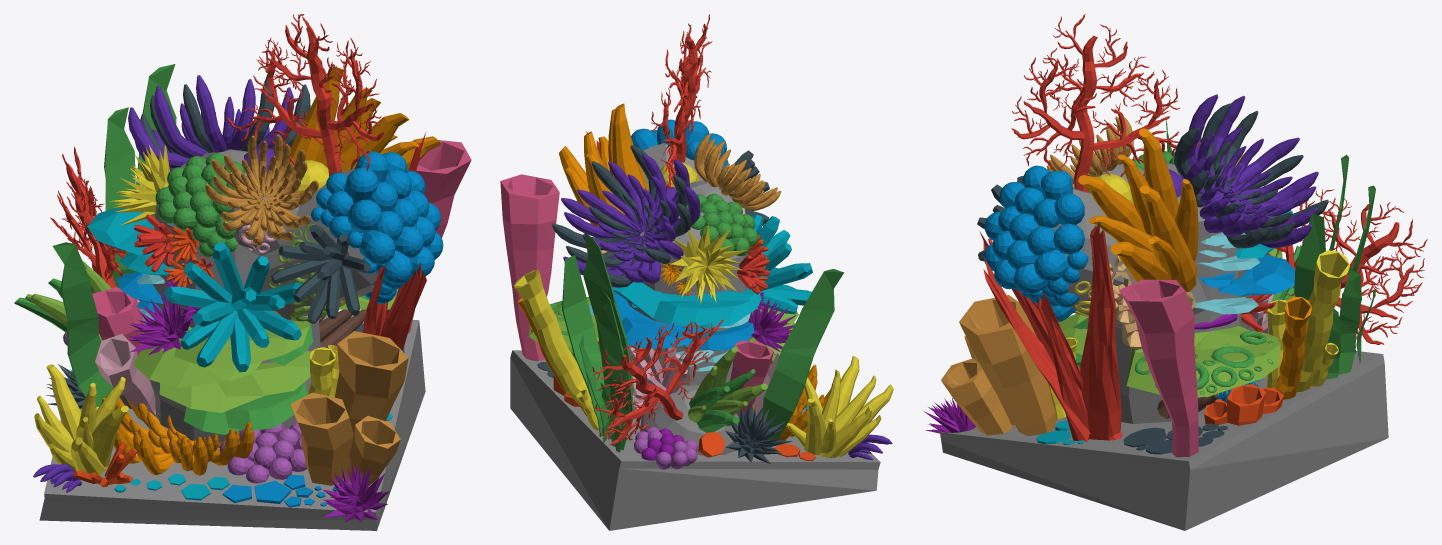
The model's file is modelDraco.gltf.
3 views of the same model, side by side, from view 1: azimuth 30°, elevation 25°; view 2: azimuth 150°, elevation 25°; view 3: azimuth 270°, elevation 25° (orthographic). The views are drawn at different scales.
Visible parts, largest first — view 1: node_MeshObject482679040-PolyPaper8, node_MeshObject-2053168320-PolyPaper13, node_MeshObject1494834176-PolyPaper1, node_MeshObject1183427968-PolyPaper8, node_MeshObject166918720-PolyPaper6, node_MeshObject1695897344-PolyPaper17, node_MeshObject-580046080-PolyPaper8, node_MeshObject-1393565376-PolyPaper3, node_MeshObject1190547904-PolyPaper5, node_MeshObject-1907961536-PolyPaper5, node_MeshObject-494684224-PolyPaper1, node_MeshObject-1243972928-PolyPaper0 (+24 smaller); view 2: node_MeshObject482679040-PolyPaper8, node_MeshObject685783040-PolyPaper0, node_MeshObject1183427968-PolyPaper8, node_MeshObject-845174656-PolyPaper18, node_MeshObject109165760-PolyPaper10, node_MeshObject-231911104-PolyPaper13, node_MeshObject1494834176-PolyPaper1, node_MeshObject-2110921280-PolyPaper8, node_MeshObject-494684224-PolyPaper1, node_MeshObject1481585280-PolyPaper13, node_MeshObject-1393565376-PolyPaper3, node_MeshObject1695897344-PolyPaper17 (+21 smaller); view 3: node_MeshObject482679040-PolyPaper8, node_MeshObject685783040-PolyPaper0, node_MeshObject-494684224-PolyPaper1, node_MeshObject1183427968-PolyPaper8, node_MeshObject-1416423040-PolyPaper18, node_MeshObject166918720-PolyPaper6, node_MeshObject-1907961536-PolyPaper5, node_MeshObject1695897344-PolyPaper17, node_MeshObject-2053168320-PolyPaper13, node_MeshObject-580046080-PolyPaper8, node_MeshObject-231911104-PolyPaper13, node_MeshObject-1393565376-PolyPaper3 (+21 smaller).
Boxes of the visible parts, box(x1,y1,x2,y2) form: node_MeshObject482679040-PolyPaper8: box(39, 147, 425, 530); node_MeshObject-2053168320-PolyPaper13: box(56, 168, 426, 503); node_MeshObject1494834176-PolyPaper1: box(87, 170, 425, 484); node_MeshObject1183427968-PolyPaper8: box(49, 98, 429, 471); node_MeshObject166918720-PolyPaper6: box(65, 62, 408, 505); node_MeshObject1695897344-PolyPaper17: box(104, 14, 346, 442); node_MeshObject-580046080-PolyPaper8: box(76, 16, 409, 449); node_MeshObject-1393565376-PolyPaper3: box(50, 45, 400, 485); node_MeshObject1190547904-PolyPaper5: box(71, 129, 441, 522); node_MeshObject-1907961536-PolyPaper5: box(70, 23, 434, 430); node_MeshObject-494684224-PolyPaper1: box(48, 50, 418, 511); node_MeshObject-1243972928-PolyPaper0: box(77, 83, 371, 471); node_MeshObject482679040-PolyPaper8: box(510, 194, 880, 530); node_MeshObject685783040-PolyPaper0: box(500, 174, 713, 441); node_MeshObject1183427968-PolyPaper8: box(579, 76, 881, 456); node_MeshObject-845174656-PolyPaper18: box(514, 141, 840, 460); node_MeshObject109165760-PolyPaper10: box(553, 22, 872, 457); node_MeshObject-231911104-PolyPaper13: box(559, 146, 892, 460); node_MeshObject1494834176-PolyPaper1: box(612, 275, 859, 416); node_MeshObject-2110921280-PolyPaper8: box(550, 105, 844, 439); node_MeshObject-494684224-PolyPaper1: box(517, 61, 762, 457); node_MeshObject1481585280-PolyPaper13: box(551, 161, 668, 275); node_MeshObject-1393565376-PolyPaper3: box(588, 31, 747, 420); node_MeshObject1695897344-PolyPaper17: box(591, 31, 778, 419); node_MeshObject482679040-PolyPaper8: box(940, 162, 1388, 530); node_MeshObject685783040-PolyPaper0: box(1119, 95, 1427, 457); node_MeshObject-494684224-PolyPaper1: box(1017, 60, 1380, 399); node_MeshObject1183427968-PolyPaper8: box(1027, 93, 1376, 440); node_MeshObject-1416423040-PolyPaper18: box(999, 182, 1420, 440); node_MeshObject166918720-PolyPaper6: box(959, 58, 1422, 436); node_MeshObject-1907961536-PolyPaper5: box(978, 16, 1335, 440); node_MeshObject1695897344-PolyPaper17: box(1034, 24, 1286, 423); node_MeshObject-2053168320-PolyPaper13: box(964, 187, 1380, 444); node_MeshObject-580046080-PolyPaper8: box(1014, 14, 1268, 454); node_MeshObject-231911104-PolyPaper13: box(1110, 103, 1295, 392); node_MeshObject-1393565376-PolyPaper3: box(941, 41, 1399, 435).
Size of the model in its own units: 2.17 by 2.21 by 2.26.
